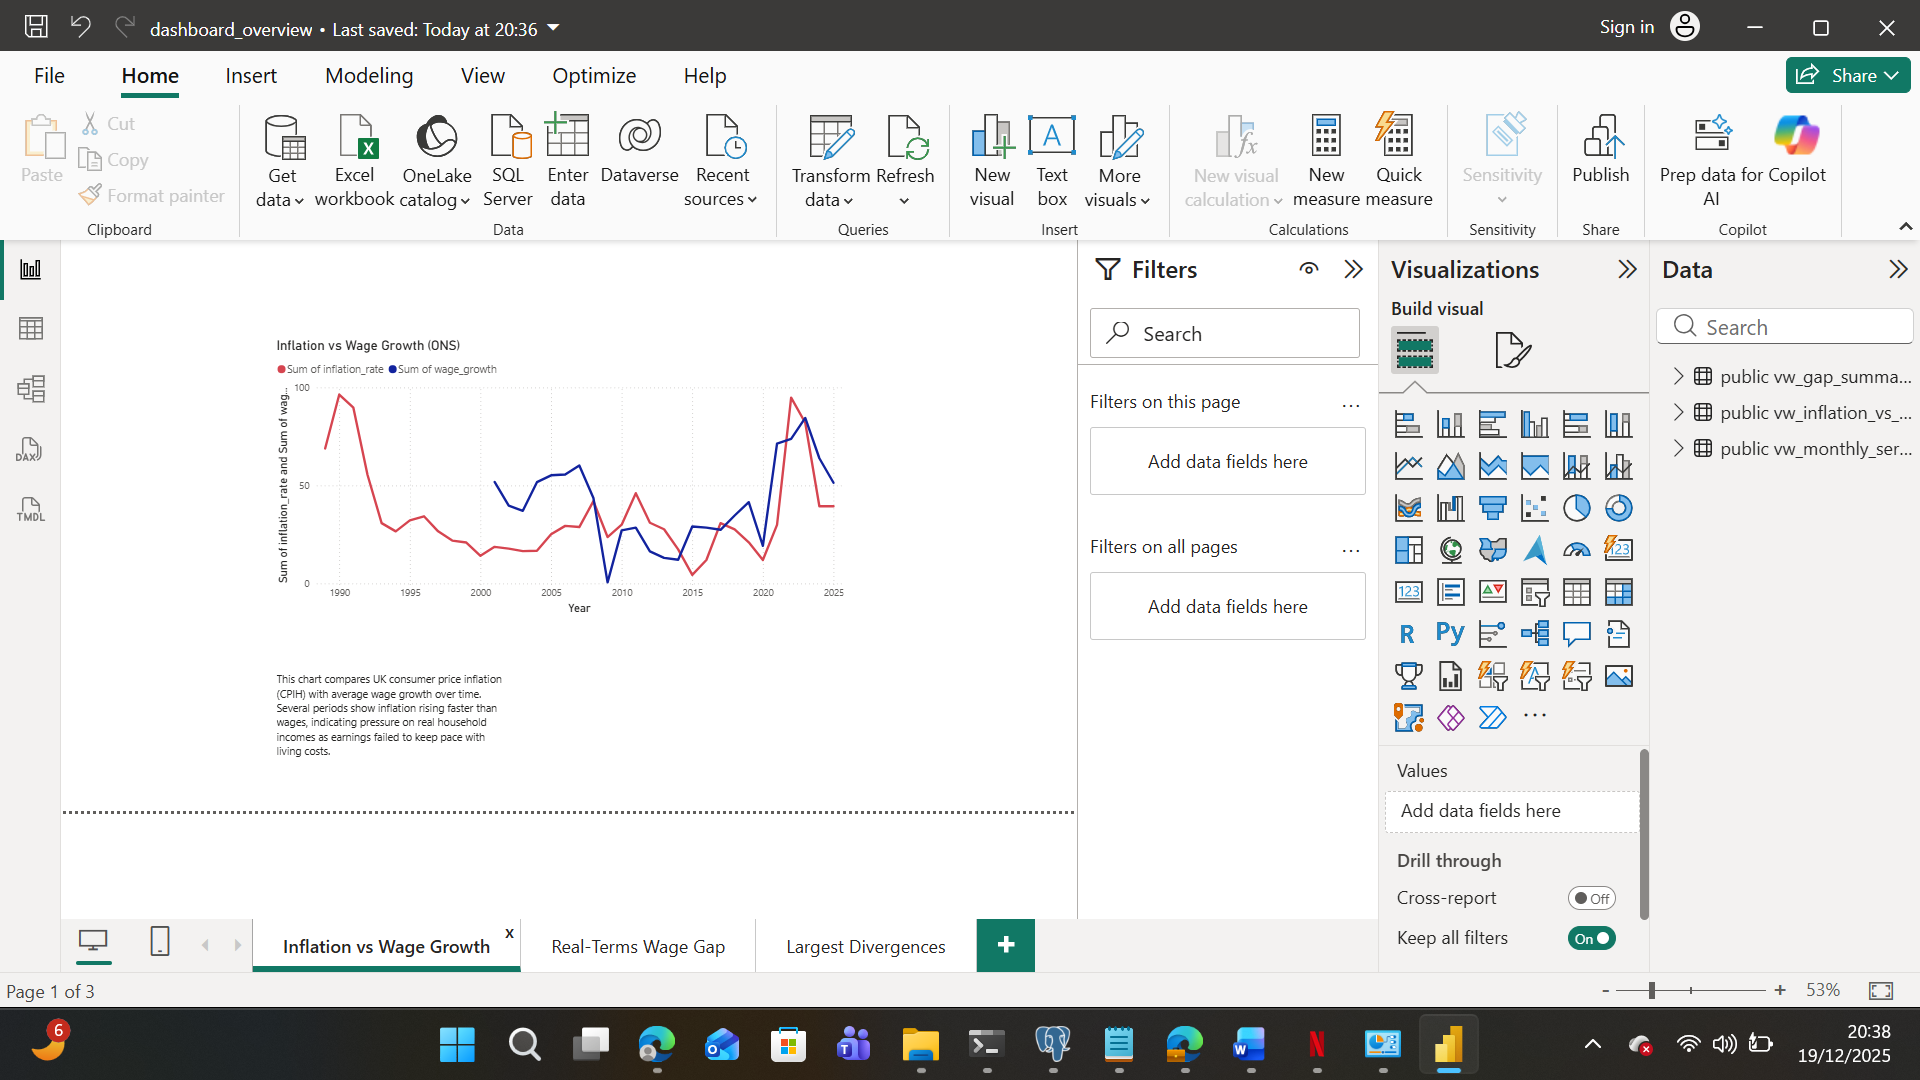

The dashboard page shown, as its layout file describes it:
{"tool":"powerbi","page":{"name":"Inflation vs Wage Growth","canvas":[1280,720],"ordinal":0},"visuals":[{"type":"lineChart","title":"Inflation vs Wage Growth (ONS)","fields":{"Category":["public vw_inflation_vs_wages.date_id.Variation.Date Hierarchy.Year","public vw_inflation_vs_wages.date_id.Variation.Date Hierarchy.Quarter","public vw_inflation_vs_wages.date_id.Variation.Date Hierarchy.Month","public vw_inflation_vs_wages.date_id.Variation.Date Hierarchy.Day"],"Y":["Sum(public vw_inflation_vs_wages.inflation_rate)","Sum(public vw_inflation_vs_wages.wage_growth)"]},"box":[265.9,123.3,724.5,352.6],"z":0},{"type":"textbox","box":[266.5,538.6,300.5,153.1],"z":1000}]}

Visuals, with their boxes on the page's 1280x720 design canvas (x1, y1, x2, y2). These are canvas units, not pixel positions in the 1920x1080 screenshot, which may show the page scaled, cropped or inside an application window:
"Inflation vs Wage Growth (ONS)" lineChart: 266/123/990/476
textbox: 266/539/567/692
